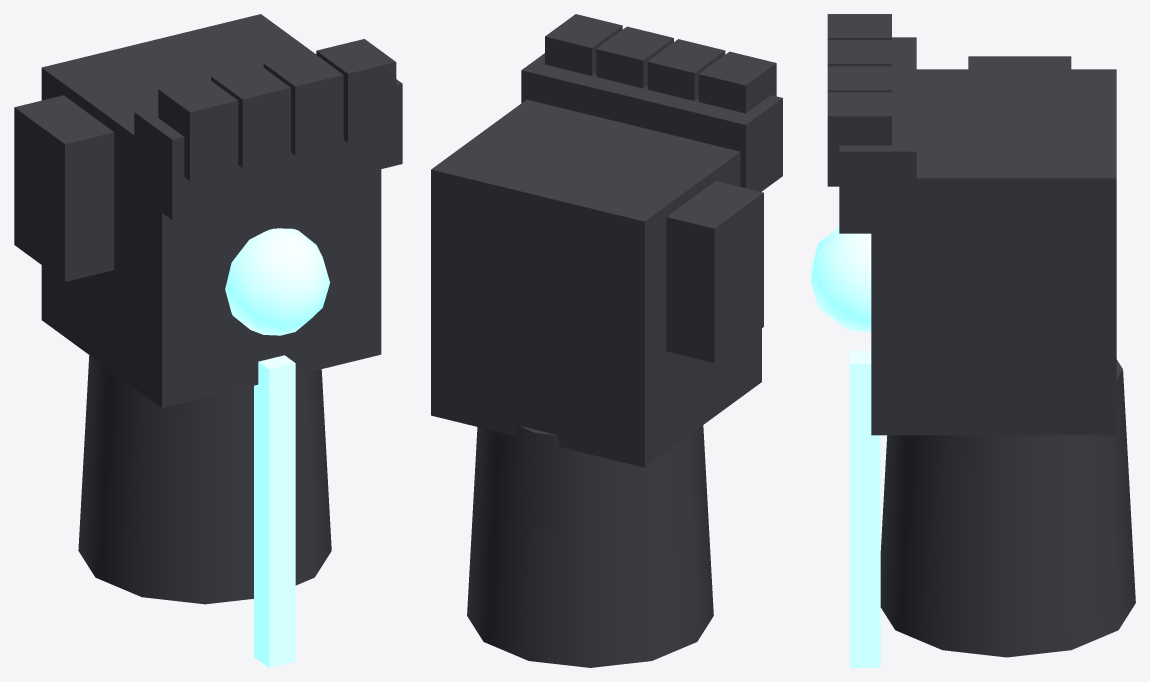
File: spell_gauntlet.glb
3 renders of one model, left to right at view 1: azimuth 30°, elevation 25°; view 2: azimuth 150°, elevation 25°; view 3: azimuth 270°, elevation 25°, orthographic. The views are drawn at different scales.
Parts seen in each view (by area): view 1: SpellGauntlet_Shell, SpellGauntlet_Glow, SpellGauntlet_Trim; view 2: SpellGauntlet_Shell, SpellGauntlet_Trim; view 3: SpellGauntlet_Shell, SpellGauntlet_Glow, SpellGauntlet_Trim.
Boxes of the visible parts, x1,y1,x2,y2 form: SpellGauntlet_Shell: [14, 14, 396, 604]; SpellGauntlet_Glow: [225, 228, 329, 667]; SpellGauntlet_Trim: [134, 79, 402, 219]; SpellGauntlet_Shell: [431, 14, 776, 667]; SpellGauntlet_Trim: [521, 53, 782, 191]; SpellGauntlet_Shell: [827, 14, 1135, 657]; SpellGauntlet_Glow: [811, 227, 880, 667]; SpellGauntlet_Trim: [839, 37, 916, 233].
Bounding box in the file's own units: 0.125 × 0.255 × 0.1259.
